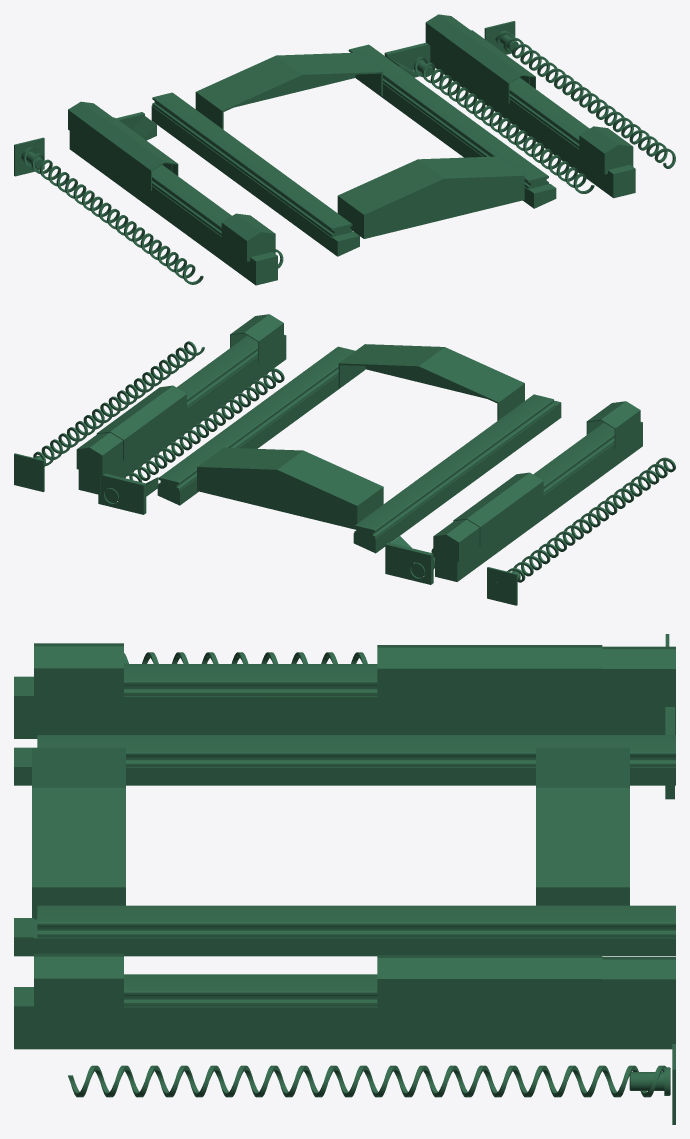
File: SM_Main_Inframe.fbx
3 views of the same model, one above another, from view 1: azimuth 30°, elevation 25°; view 2: azimuth 150°, elevation 25°; view 3: azimuth 270°, elevation 25° (orthographic). The views are drawn at different scales.
Parts seen in each view (by area): view 1: SM_Main_Inframe; view 2: SM_Main_Inframe; view 3: SM_Main_Inframe.
Part boxes in pixels (x1=…): SM_Main_Inframe: x1=14, y1=14, x2=675, y2=285; SM_Main_Inframe: x1=14, y1=314, x2=675, y2=605; SM_Main_Inframe: x1=14, y1=634, x2=675, y2=1124.
Size of the model in its own units: 326 by 41.65 by 210.
